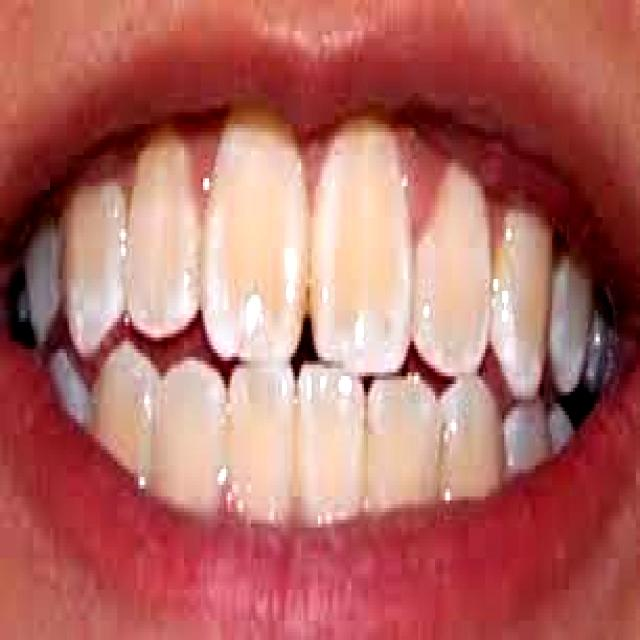tooth-discoloration: (23, 213, 61, 345), (502, 400, 548, 473), (50, 349, 92, 427)
